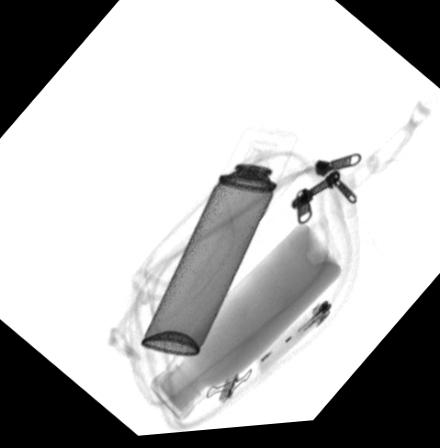Lighter: (254, 301, 333, 378)
Sprayer: (140, 127, 297, 357)
